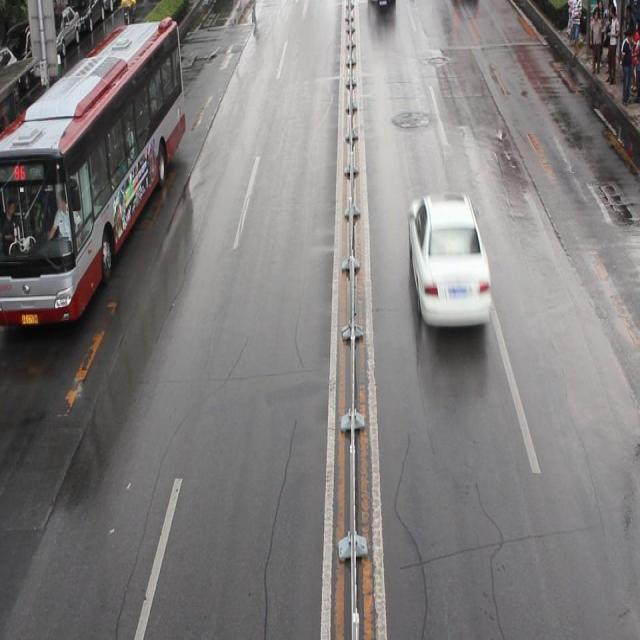car: (408, 191, 489, 325), (369, 2, 394, 15)
van: (1, 17, 186, 321)
